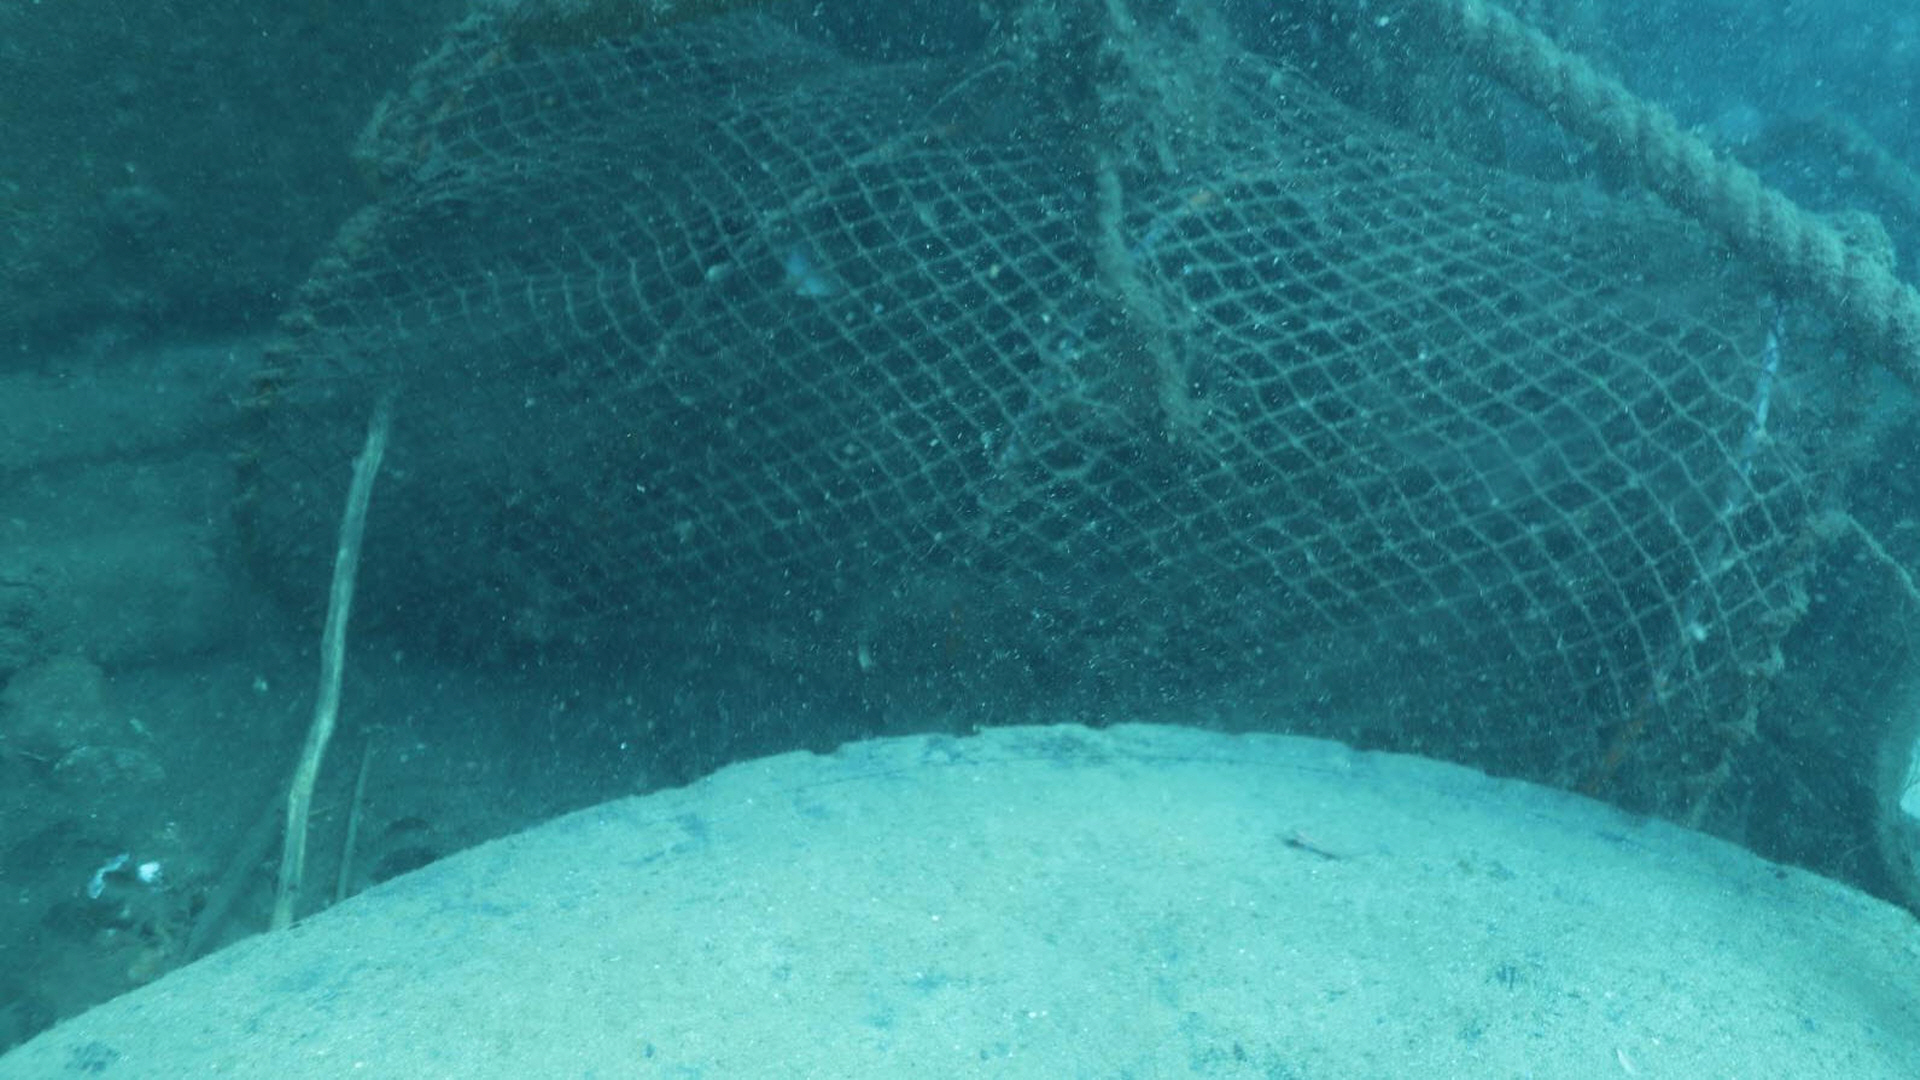rope: (1399, 0, 1920, 377)
spring fish trap: (223, 0, 1895, 829)
